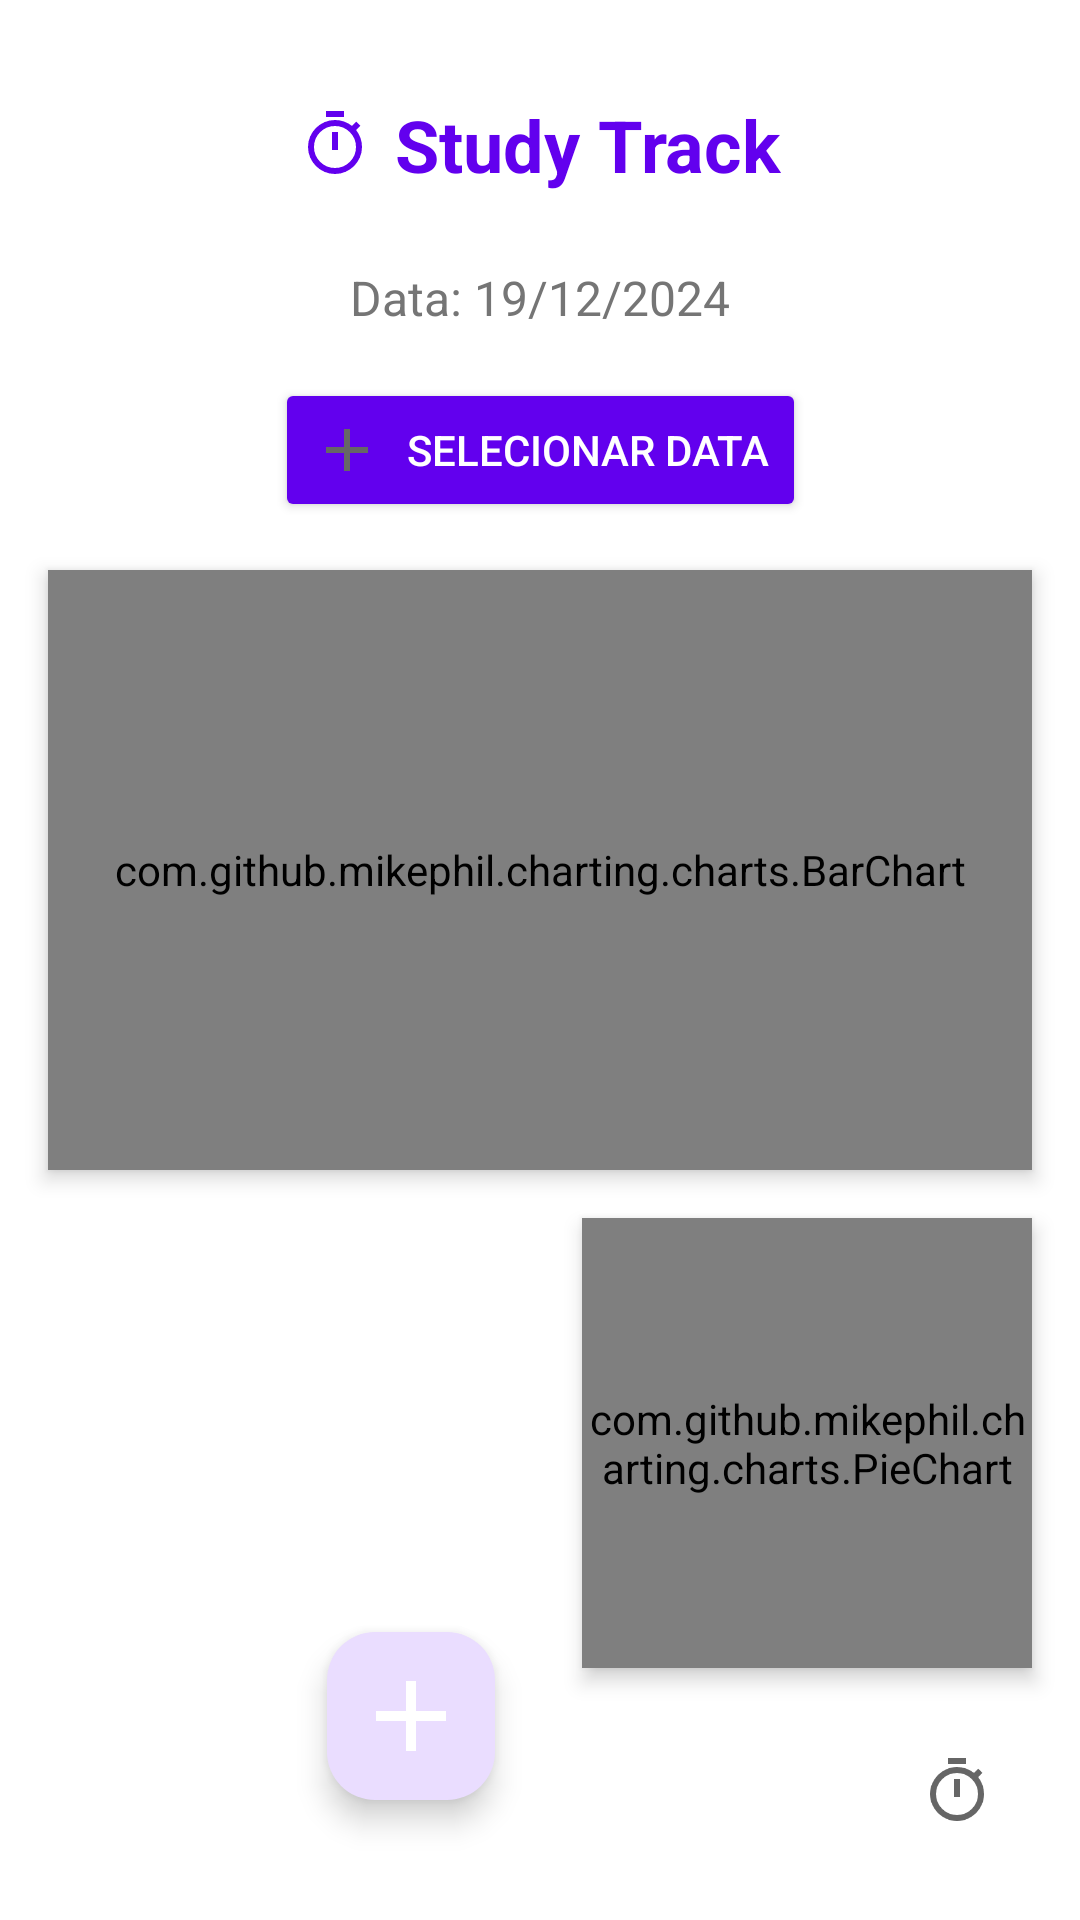

Named icons in this screenshot (1080px x 1920px) and their centers, [x,y]:
add: [411,1716]
clock: [335,142], [957,1789]
